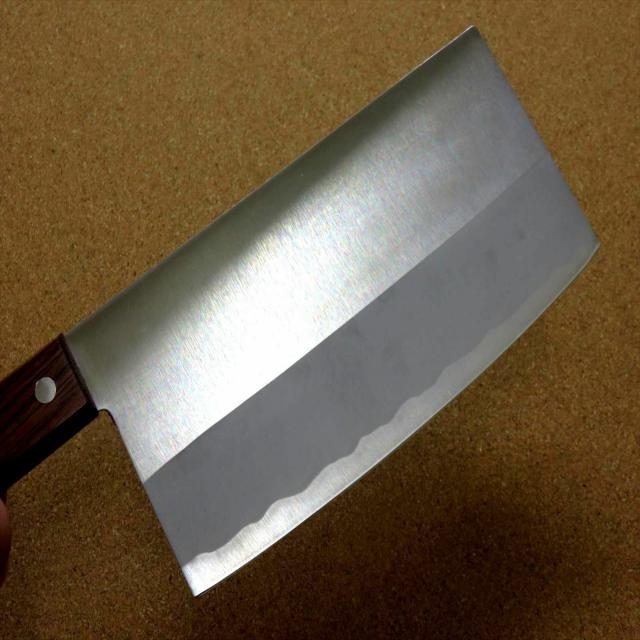cleaver: (0, 29, 600, 598)
